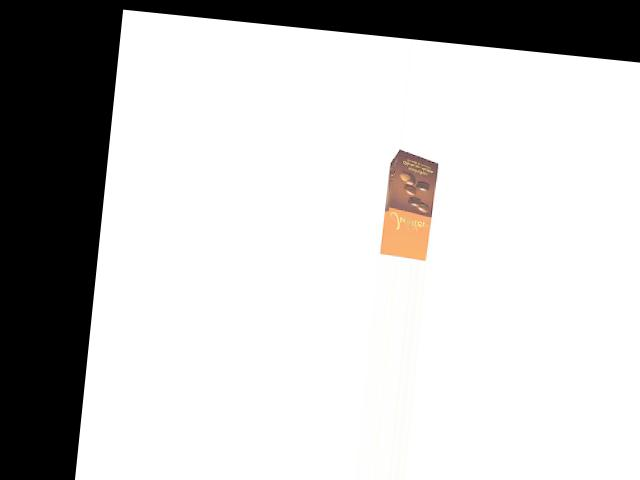chocolate: (377, 149, 445, 260)
